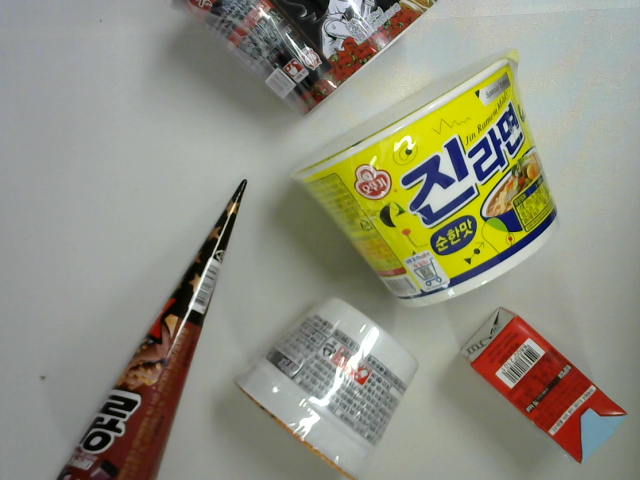HeJangsock: (165, 1, 454, 115)
Jinlamyeon_Mild_Taste_Large_Cup: (283, 44, 573, 318)
Picnic_Apple: (465, 305, 638, 472)
Udongmini: (230, 297, 415, 480)
World_Cone_Choco: (48, 171, 260, 480)
